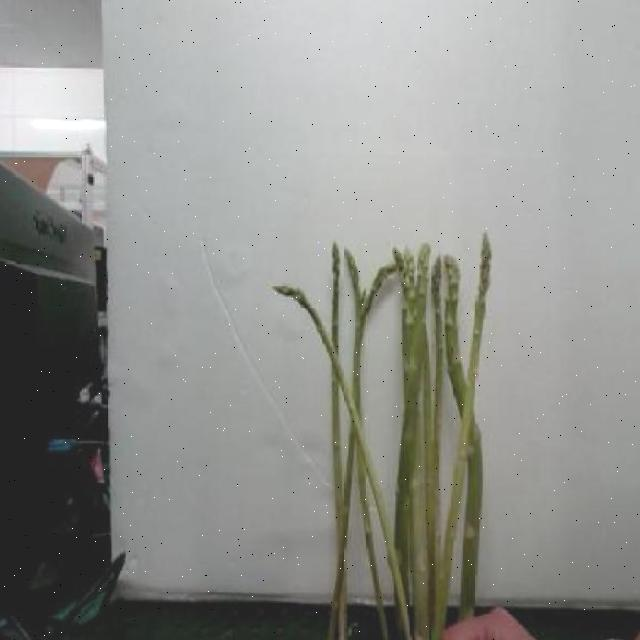aspargus: (273, 236, 491, 640)
